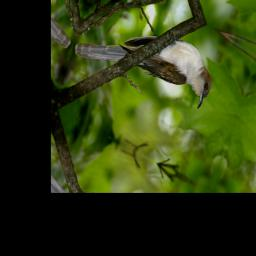Cuckoo: (73, 0, 222, 123)
